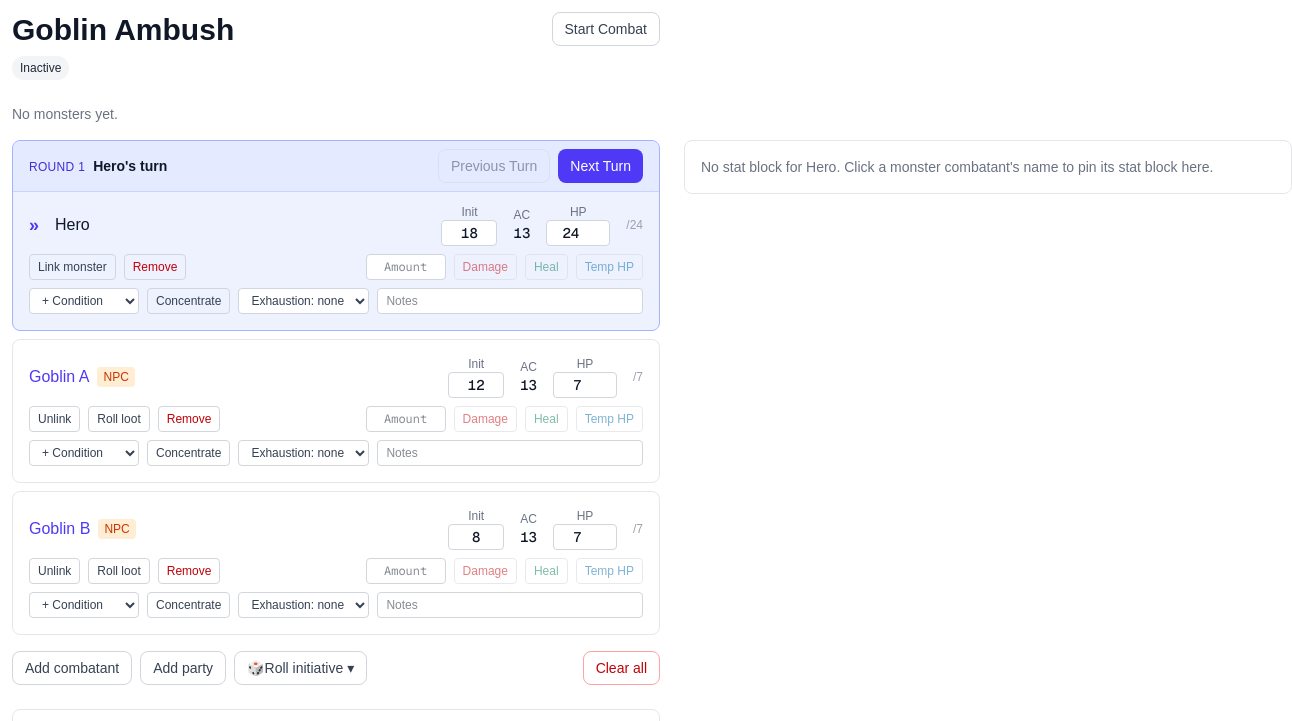
Test case: InitiativeTrackerPage › encounter loot › rolls loot for one combatant via its combatants-array index and renders the drop
This screenshot has width=1292, height=721.
Expected: the heading "Goblin Ambush" is shown, [12, 12, 234, 48]
Click the button with aria-label "roll loot for goblin a": (119, 419) [88, 406, 150, 432]
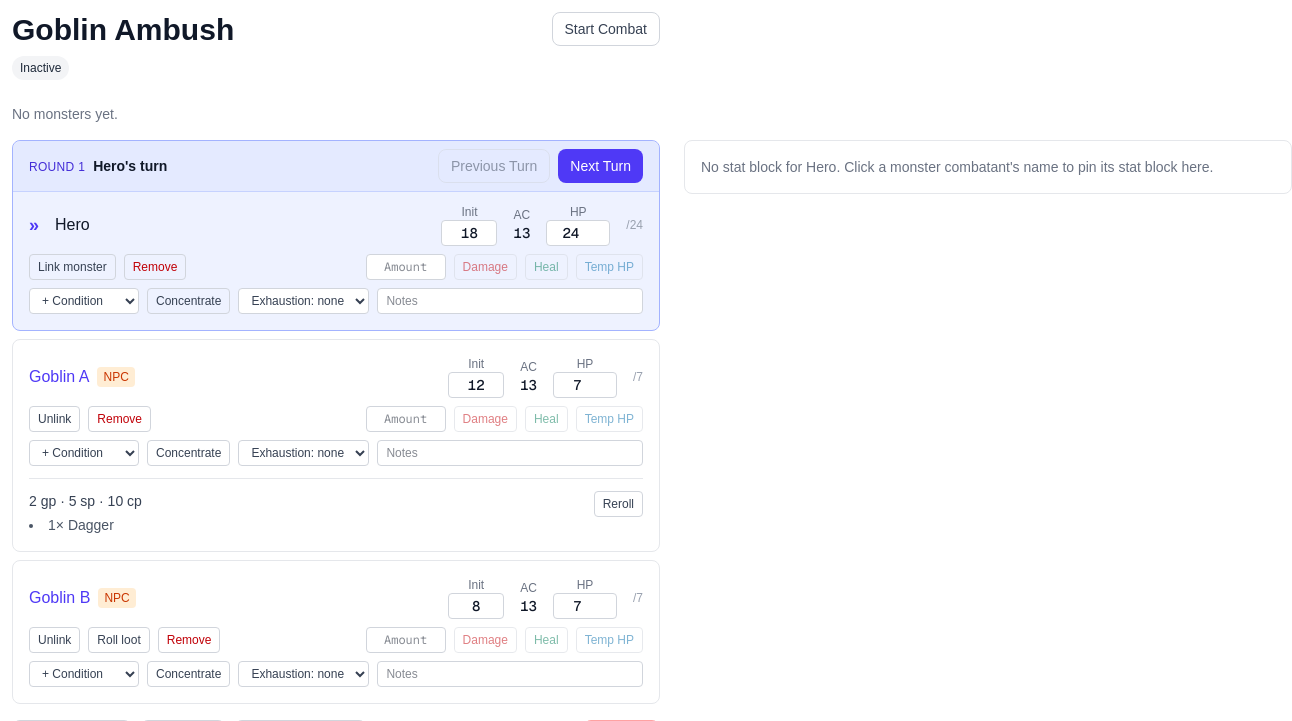
Now the text "2 gp · 5 sp · 10 cp" is shown 2 times
Now the number of list items "1× Dagger" is 2
